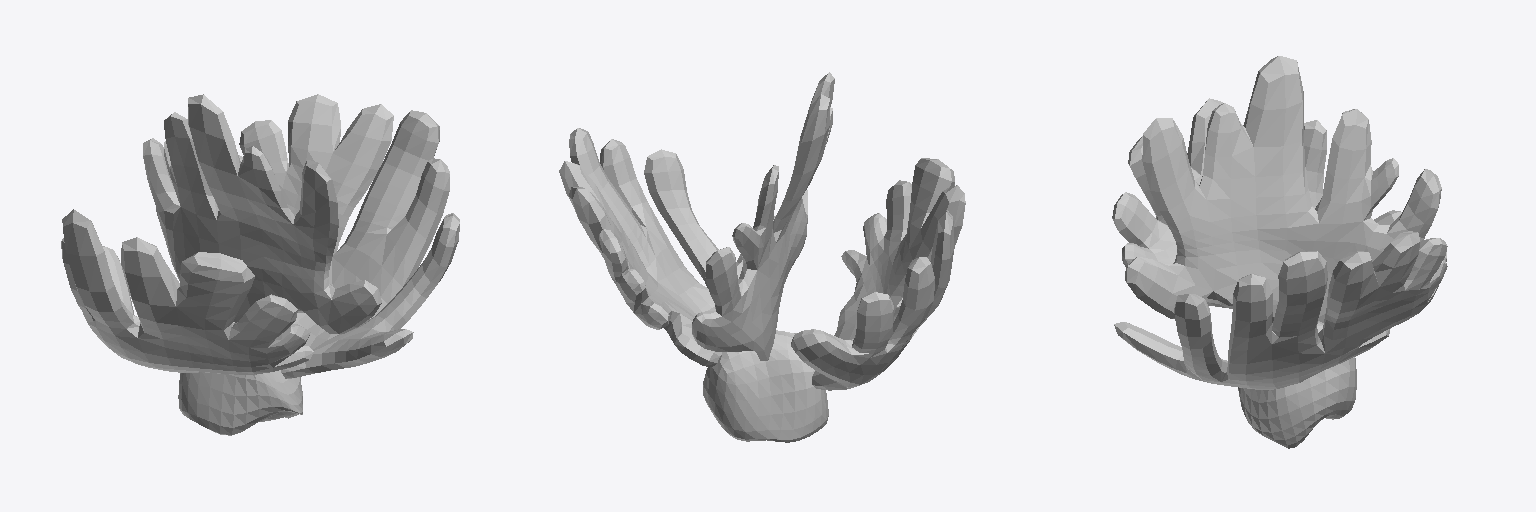
The model's file is Elkhorn_03_LOD0.obj.
3 views of the same model, side by side, from view 1: azimuth 30°, elevation 25°; view 2: azimuth 150°, elevation 25°; view 3: azimuth 270°, elevation 25° (orthographic).
Parts seen in each view (by area): view 1: Elkhorn_03_LOD0_Cube.518; view 2: Elkhorn_03_LOD0_Cube.518; view 3: Elkhorn_03_LOD0_Cube.518.
Boxes of the visible parts, <box> form: Elkhorn_03_LOD0_Cube.518: <box>61,94,459,435</box>; Elkhorn_03_LOD0_Cube.518: <box>559,72,965,442</box>; Elkhorn_03_LOD0_Cube.518: <box>1112,56,1447,448</box>.
Bounding box in the file's own units: 10.95 × 9.73 × 8.47.